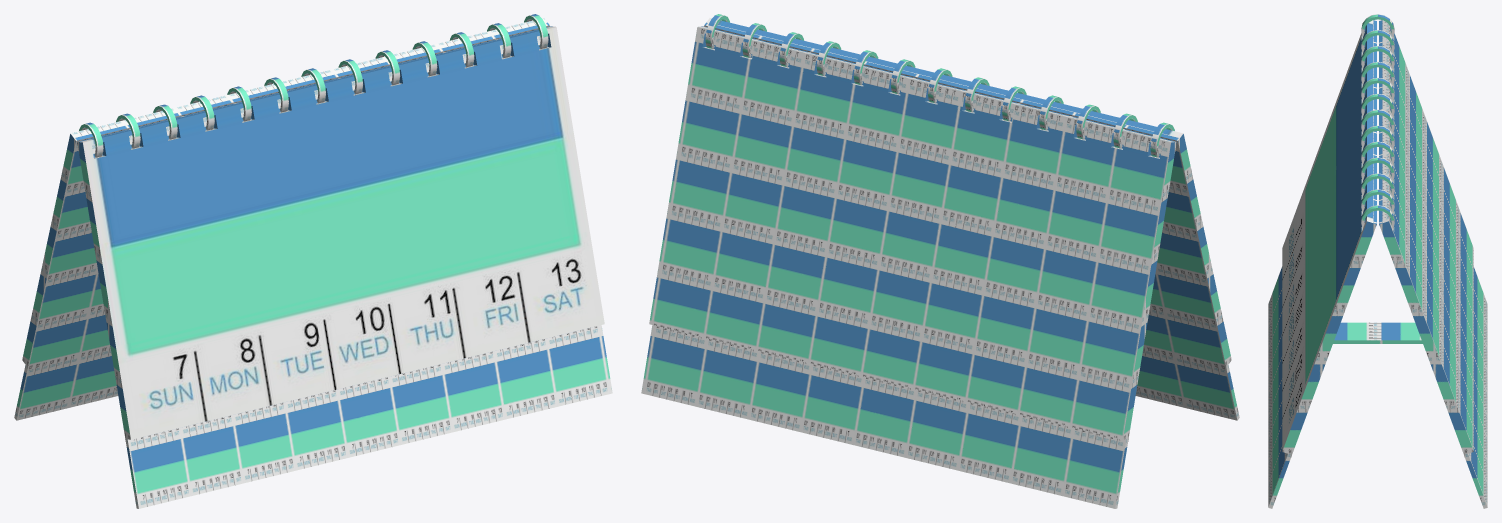
The model's file is calender.fbx.
The picture shows the model from 3 angles, left to right: view 1: azimuth 30°, elevation 25°; view 2: azimuth 150°, elevation 25°; view 3: azimuth 270°, elevation 25°; orthographic projection. The views are drawn at different scales.
Parts seen in each view (by area): view 1: Mesh2Calendar_C01_1Calendar_LowPoly1Model1; view 2: Mesh2Calendar_C01_1Calendar_LowPoly1Model1; view 3: Mesh2Calendar_C01_1Calendar_LowPoly1Model1.
Part boxes in pixels (x1,y1,x2,y2): Mesh2Calendar_C01_1Calendar_LowPoly1Model1: (14, 14, 612, 508); Mesh2Calendar_C01_1Calendar_LowPoly1Model1: (641, 14, 1239, 508); Mesh2Calendar_C01_1Calendar_LowPoly1Model1: (1268, 14, 1487, 508).
Bounding box in the file's own units: 8.51 × 5.77 × 3.88.
1 material, 1 textured.
